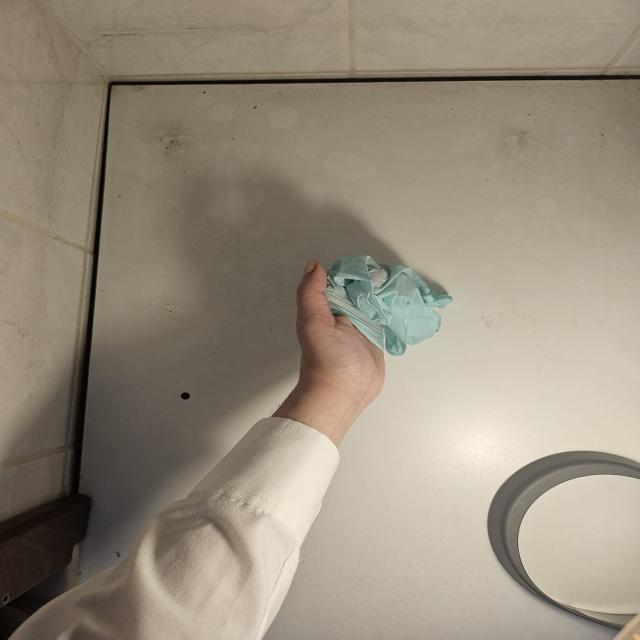glove_partial: (292, 254, 452, 396)
